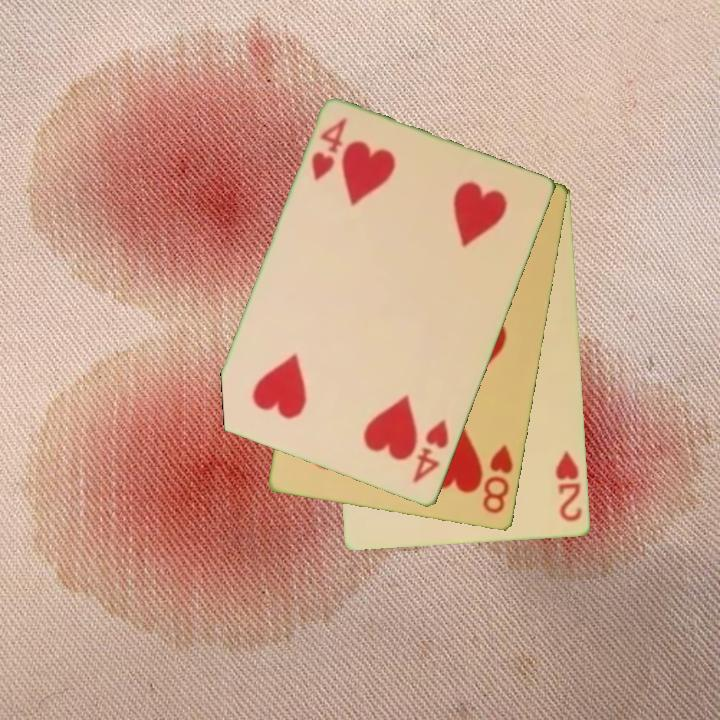2h: (552, 447, 586, 525)
4h: (409, 416, 452, 487), (308, 114, 350, 184)
8h: (479, 441, 517, 517)
